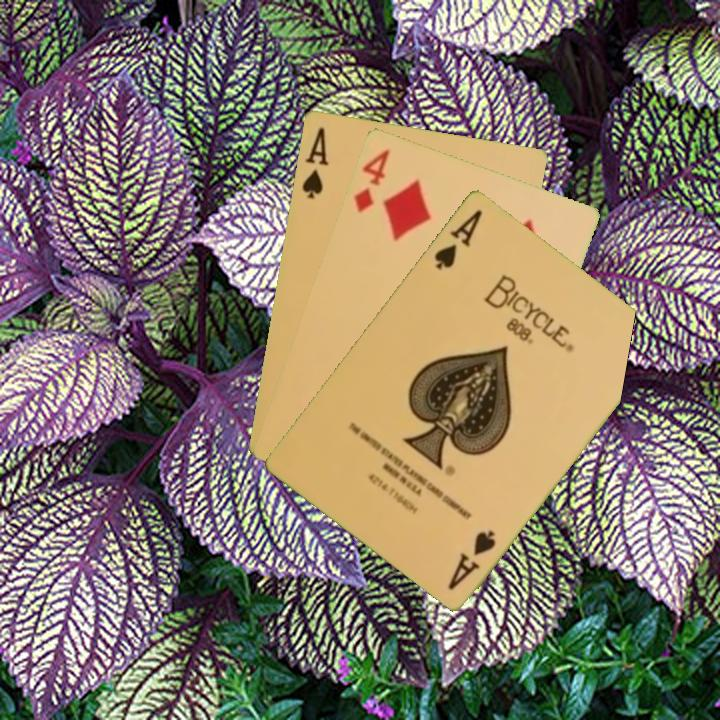4d: (350, 144, 393, 216)
As: (430, 205, 486, 273), (444, 526, 499, 592), (298, 123, 331, 201)
